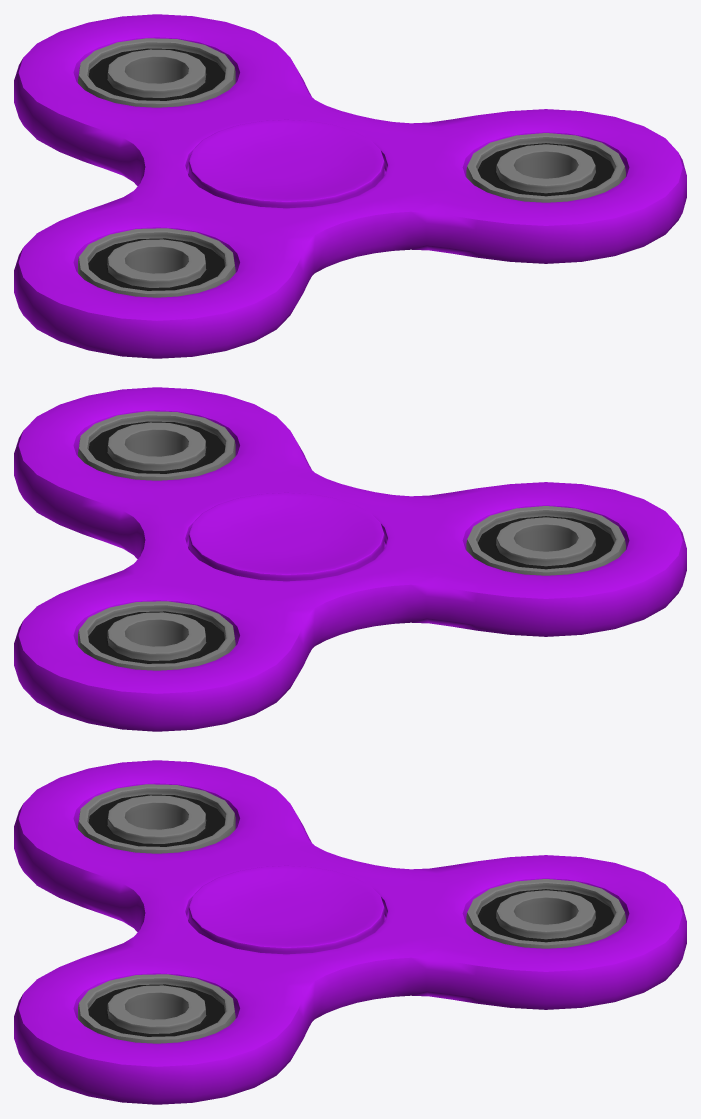
3 views of the same model, one above another, from view 1: azimuth 30°, elevation 25°; view 2: azimuth 150°, elevation 25°; view 3: azimuth 270°, elevation 25° (orthographic).
Parts seen in each view (by area): view 1: Disc, Cylinder_2, Cylinder_3, Cylinder_1; view 2: Disc, Cylinder_1, Cylinder_2, Cylinder_3; view 3: Disc, Cylinder_3, Cylinder_1, Cylinder_2.
Part boxes in pixels (<box>): Disc: <box>14,14,686,358</box>; Cylinder_2: <box>466,133,625,202</box>; Cylinder_3: <box>78,38,235,107</box>; Cylinder_1: <box>78,228,235,297</box>; Disc: <box>14,387,686,731</box>; Cylinder_1: <box>466,506,625,575</box>; Cylinder_2: <box>78,411,235,480</box>; Cylinder_3: <box>78,601,235,670</box>; Disc: <box>14,760,686,1104</box>; Cylinder_3: <box>466,879,625,948</box>; Cylinder_1: <box>78,784,235,853</box>; Cylinder_2: <box>78,974,235,1043</box>.
Bounding box in the file's own units: 399 × 31.2 × 366.
